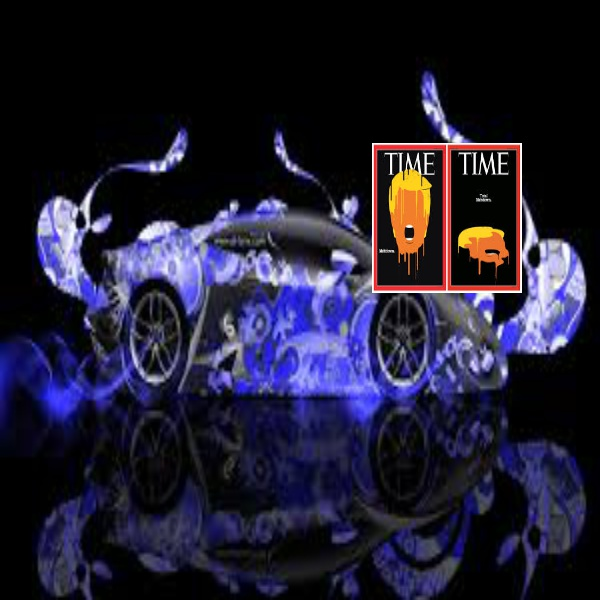time_cover: (453, 134, 523, 294), (370, 133, 440, 291)
